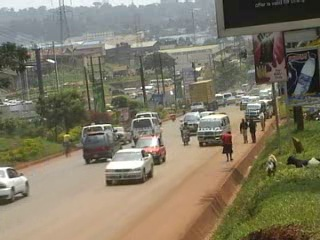Car: (102, 147, 154, 187), (129, 134, 168, 169), (0, 163, 31, 205), (112, 124, 134, 144), (188, 103, 208, 114), (224, 95, 236, 104)
Motorcycle: (177, 119, 192, 146), (167, 105, 177, 124)
